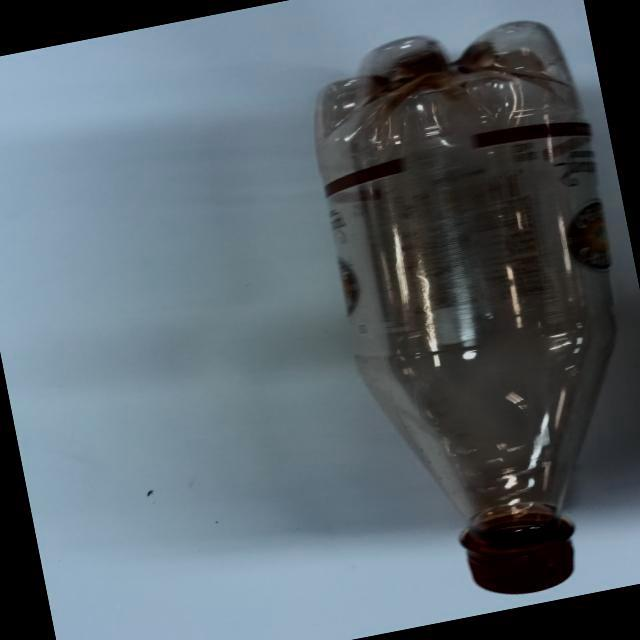plastic: (226, 0, 640, 640)
